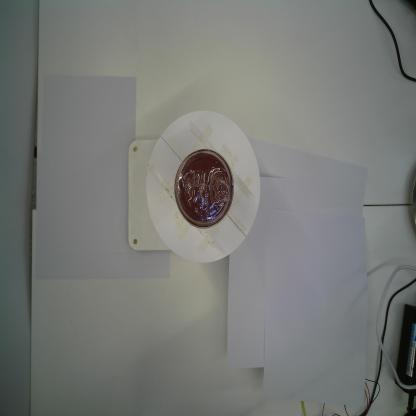Instant Drink: (174, 147, 235, 233)
